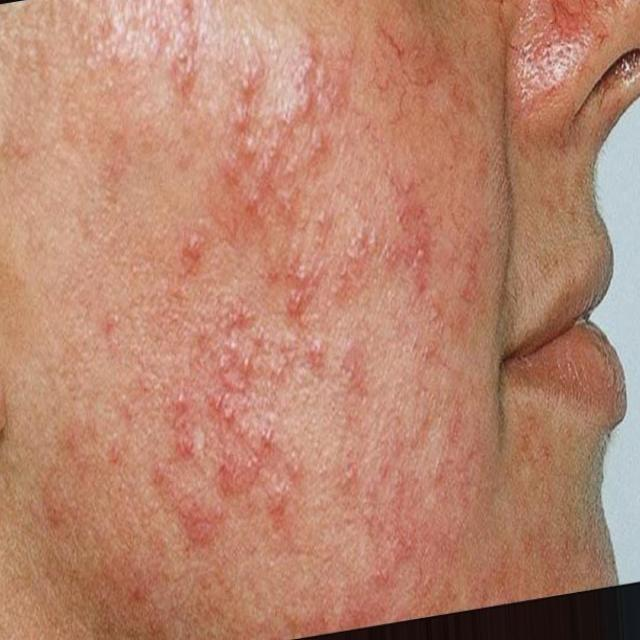Rosacea: (118, 8, 480, 598), (509, 0, 637, 65)
